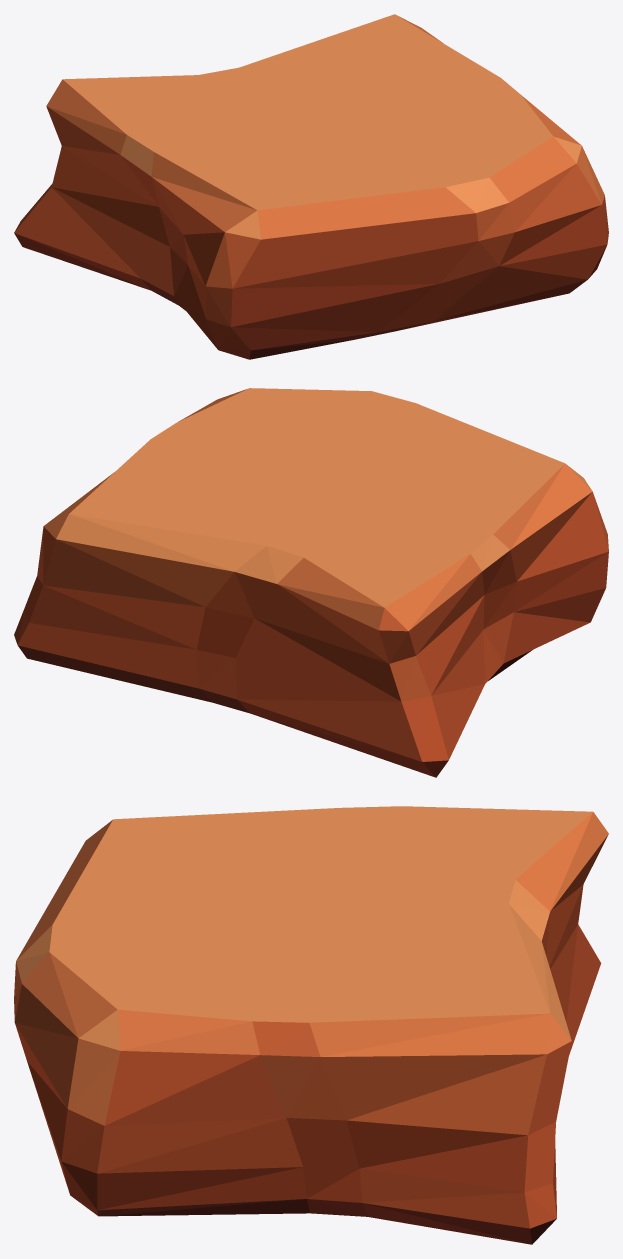
The model's file is SM_ROCK_S_03.fbx.
3 views of the same model, one above another, from view 1: azimuth 30°, elevation 25°; view 2: azimuth 150°, elevation 25°; view 3: azimuth 270°, elevation 25° (orthographic). The views are drawn at different scales.
Visible parts, largest first — view 1: ROCK_S_03; view 2: ROCK_S_03; view 3: ROCK_S_03.
Part boxes in pixels (x1=…): ROCK_S_03: x1=14, y1=14, x2=608, y2=359; ROCK_S_03: x1=14, y1=388, x2=608, y2=777; ROCK_S_03: x1=14, y1=806, x2=608, y2=1244.
Size of the model in its own units: 0.9088 by 0.8306 by 0.31.
